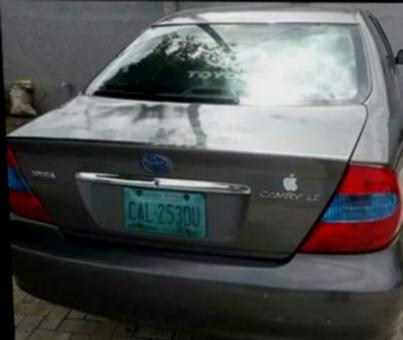License_Plate: (119, 184, 211, 242)
